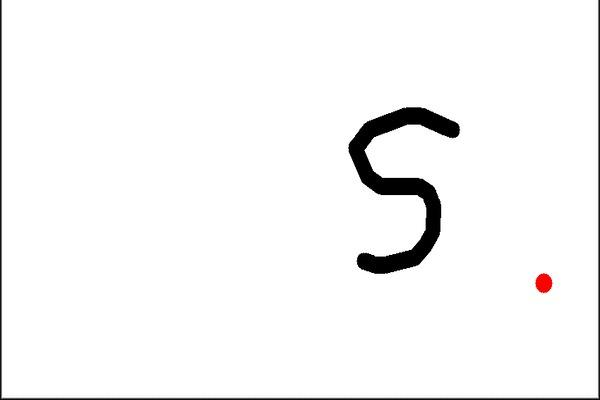S: (341, 99, 464, 278)
